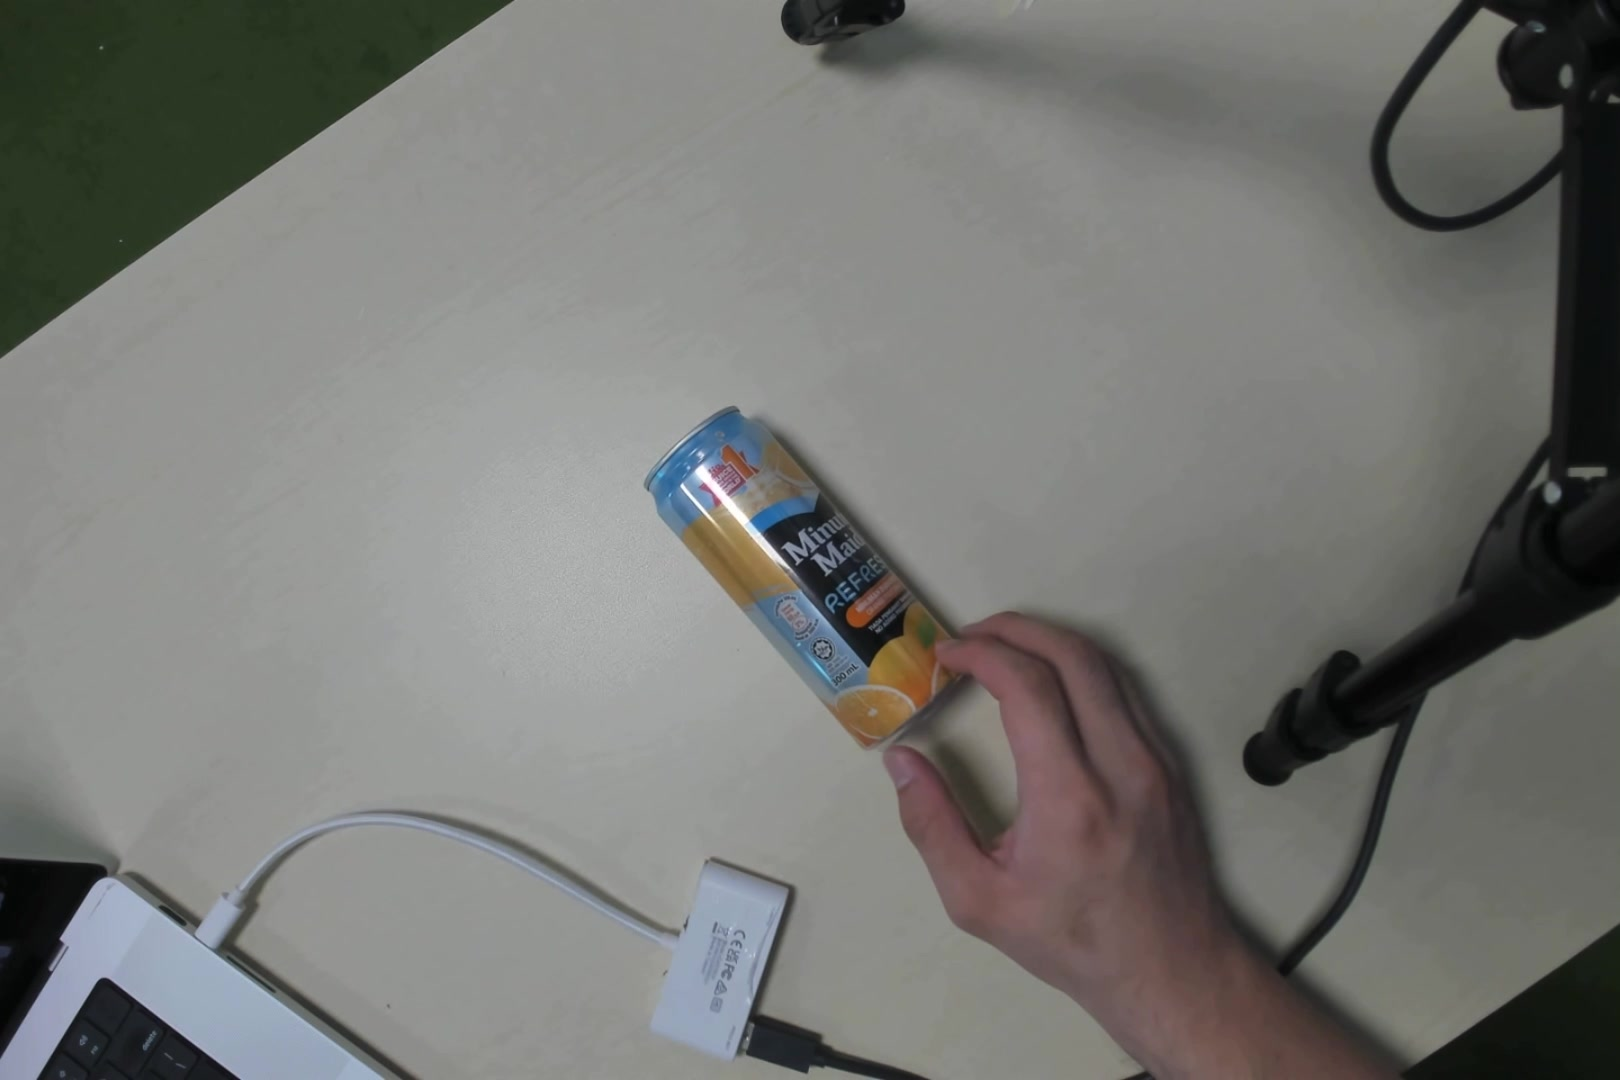SoftDrinks_200-299g_Halal_Healthy: (647, 385, 965, 730)
